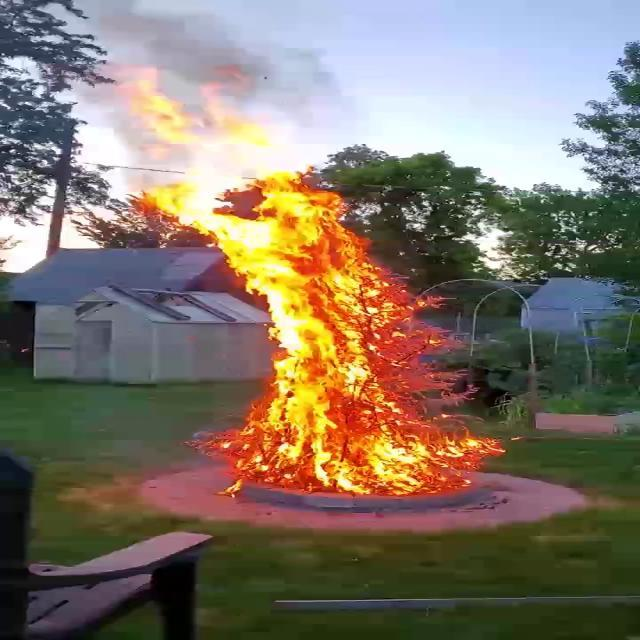Fire: (209, 75, 479, 499)
